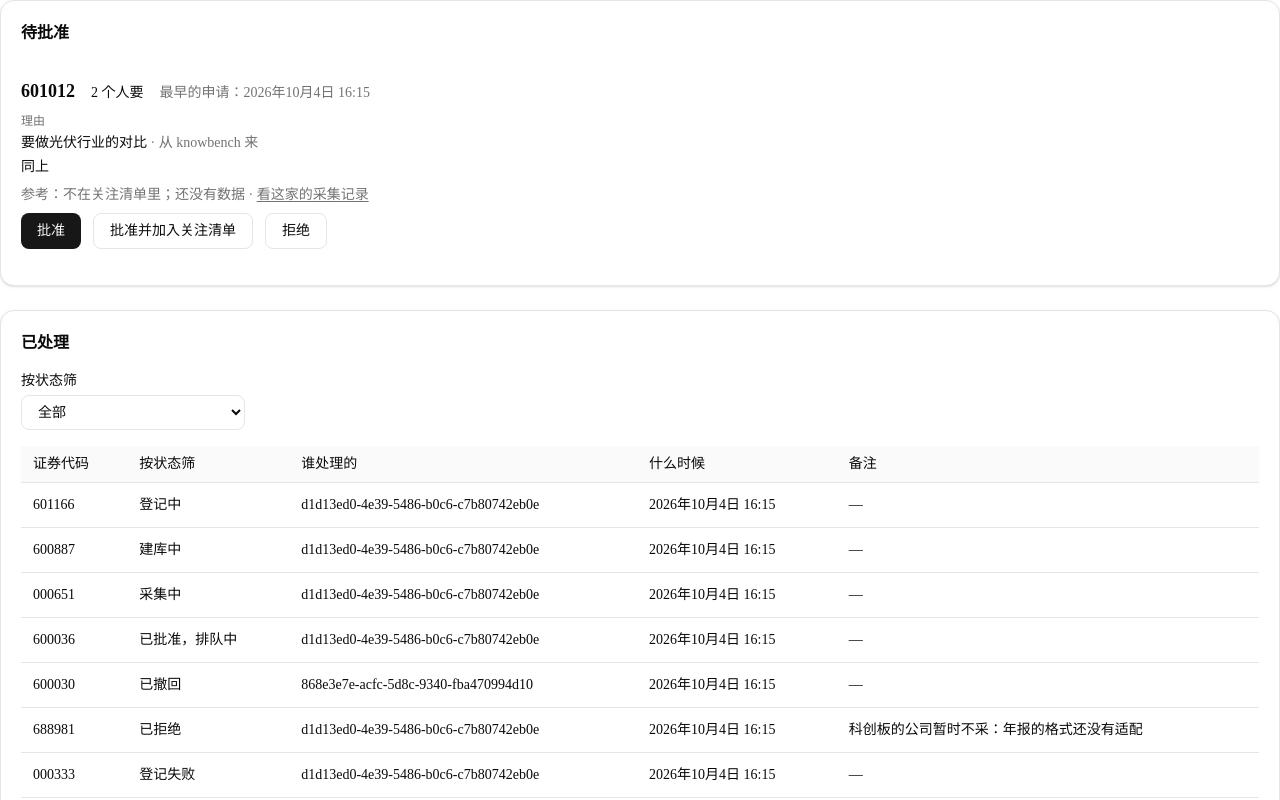
it: 申请审批 › 已处理的：可按状态筛；看谁批的、什么时候、原因
This screenshot has width=1280, height=800.
Select "已拒绝" in the dropdown labelled "按状态筛" at (133, 412), box [21, 395, 245, 430]
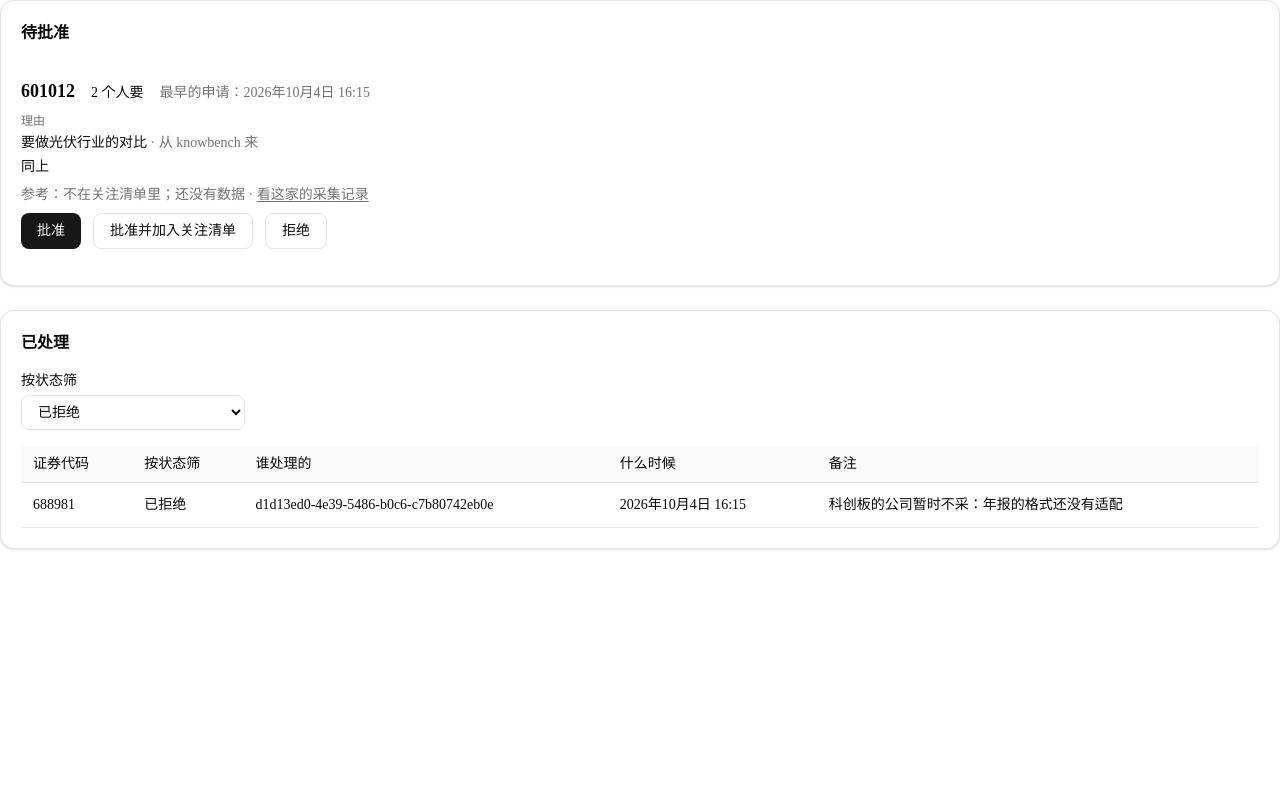
Expected: the text "科创板的公司暂时不采：年报的格式还没有适配" is shown, [817, 483, 1259, 528]
Result: the number of rows is 2 at [21, 446, 1259, 482]; [21, 483, 1259, 528]
